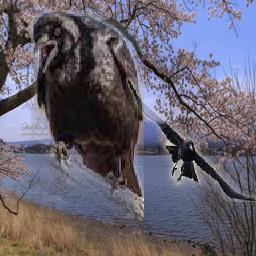Crow: (32, 11, 145, 236), (126, 78, 256, 203)
